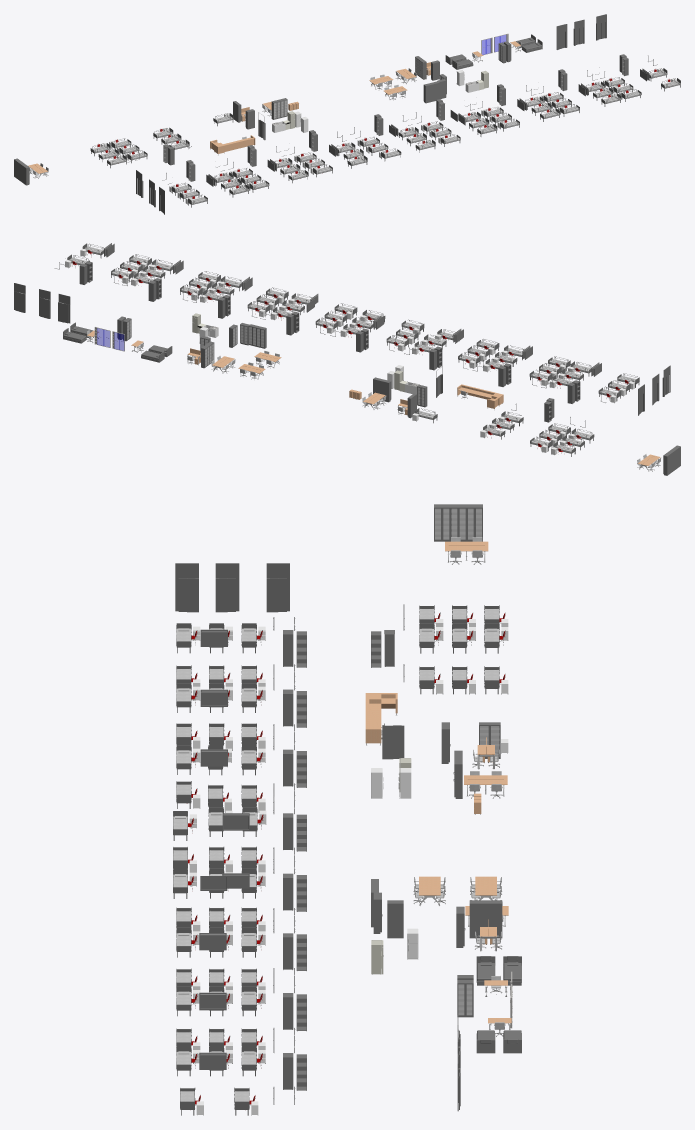
The model's file is F12_jiaju.glb.
3 renders of one model, top to bottom at view 1: azimuth 30°, elevation 25°; view 2: azimuth 150°, elevation 25°; view 3: azimuth 270°, elevation 25°, orthographic. The views are drawn at different scales.
Parts seen in each view (by area): view 1: jjxt-1 [1965957]; view 2: jjxt-1 [1965957], 1300 [1969394]; view 3: 1300 [1969282], 1300 [1969283], 1300 [1969281], jjxt-1 [1965957].
Boxes of the visible parts, x1=… form: jjxt-1 [1965957]: x1=210, y1=135, x2=255, y2=155; jjxt-1 [1965957]: x1=457, y1=384, x2=503, y2=410; 1300 [1969394]: x1=58, y1=294, x2=70, y2=323; 1300 [1969282]: x1=215, y1=563, x2=239, y2=612; 1300 [1969283]: x1=175, y1=563, x2=198, y2=612; 1300 [1969281]: x1=266, y1=563, x2=289, y2=612; jjxt-1 [1965957]: x1=365, y1=693, x2=397, y2=745.
Bounding box in the file's own units: 75.23 × 2.9 × 19.22.
Materials: 21 (3 with a texture image).
